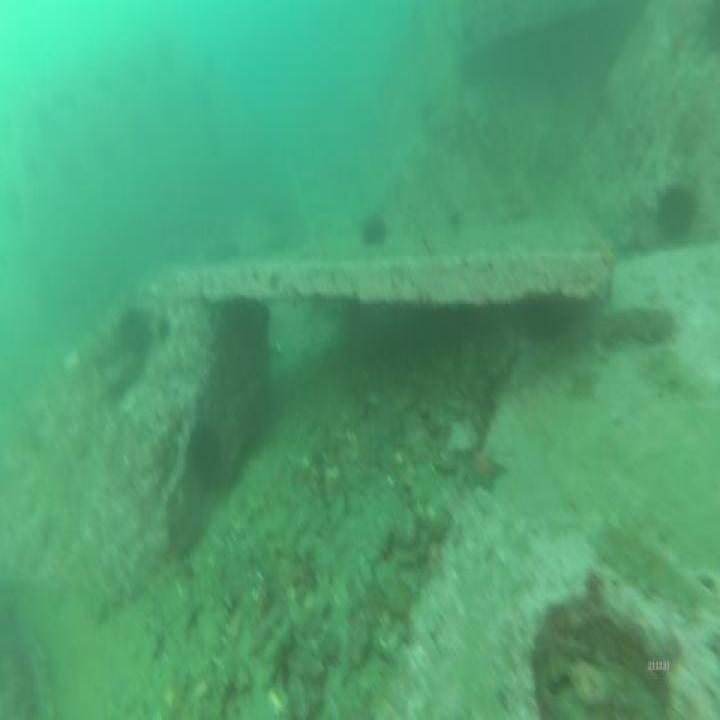echinus: (658, 178, 697, 250), (187, 417, 224, 490), (116, 297, 152, 363), (361, 208, 387, 254)
holothurian: (591, 517, 699, 617)
starfish: (463, 441, 506, 494)
